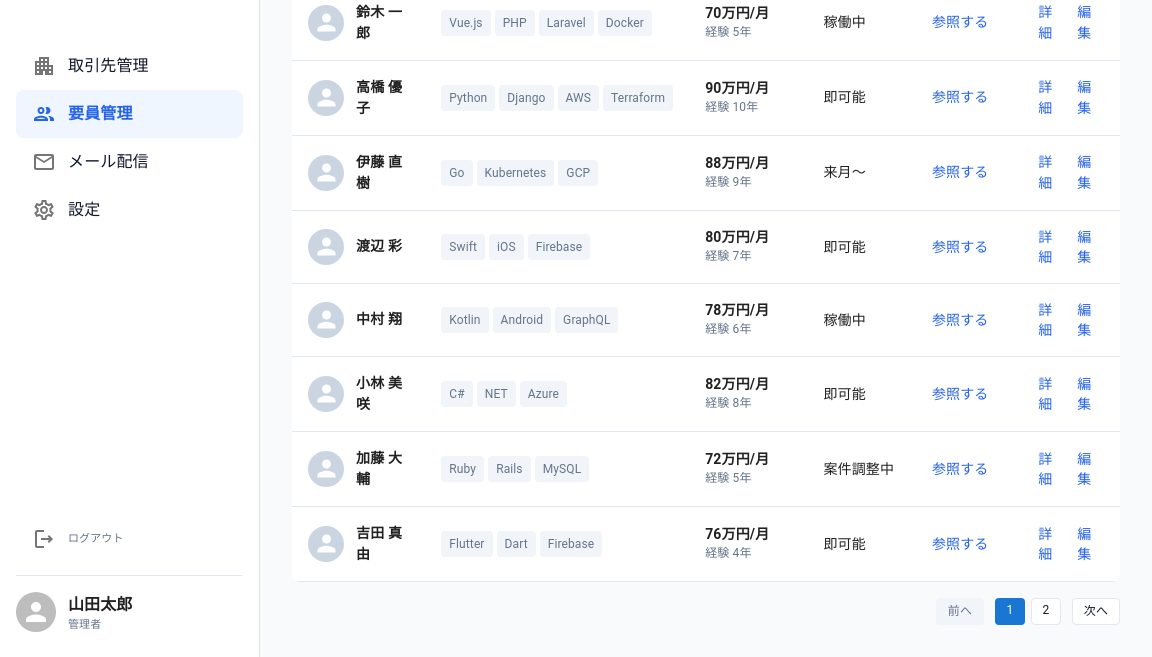
MemberPage › ページ変更で一覧が切り替わる
(page scrolled)
Click the button named "Go to page 2": (1046, 611) [1031,598,1061,625]
(page scrolled)
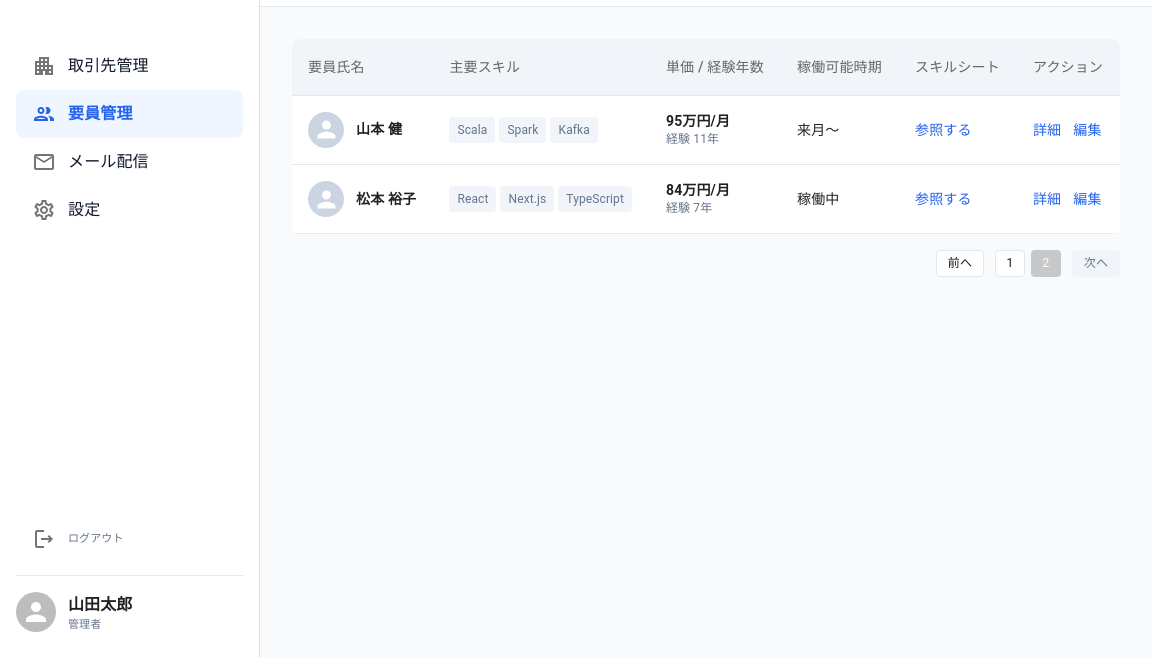
expect the text "山本 健" is shown: met, box [356,119,402,140]
